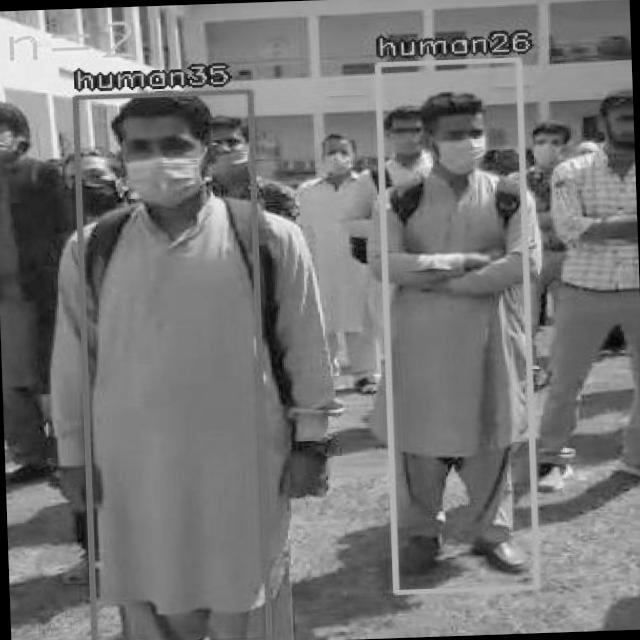person: (72, 89, 268, 640), (374, 57, 535, 592)
